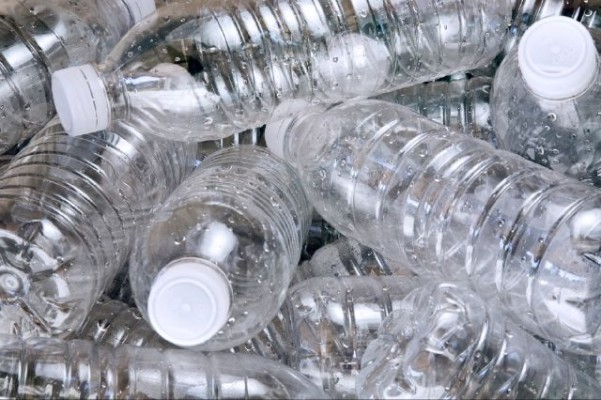plastic_bottle: (265, 100, 601, 354), (47, 1, 518, 144), (1, 70, 197, 343), (119, 156, 308, 357), (358, 276, 601, 400), (486, 12, 601, 168)
